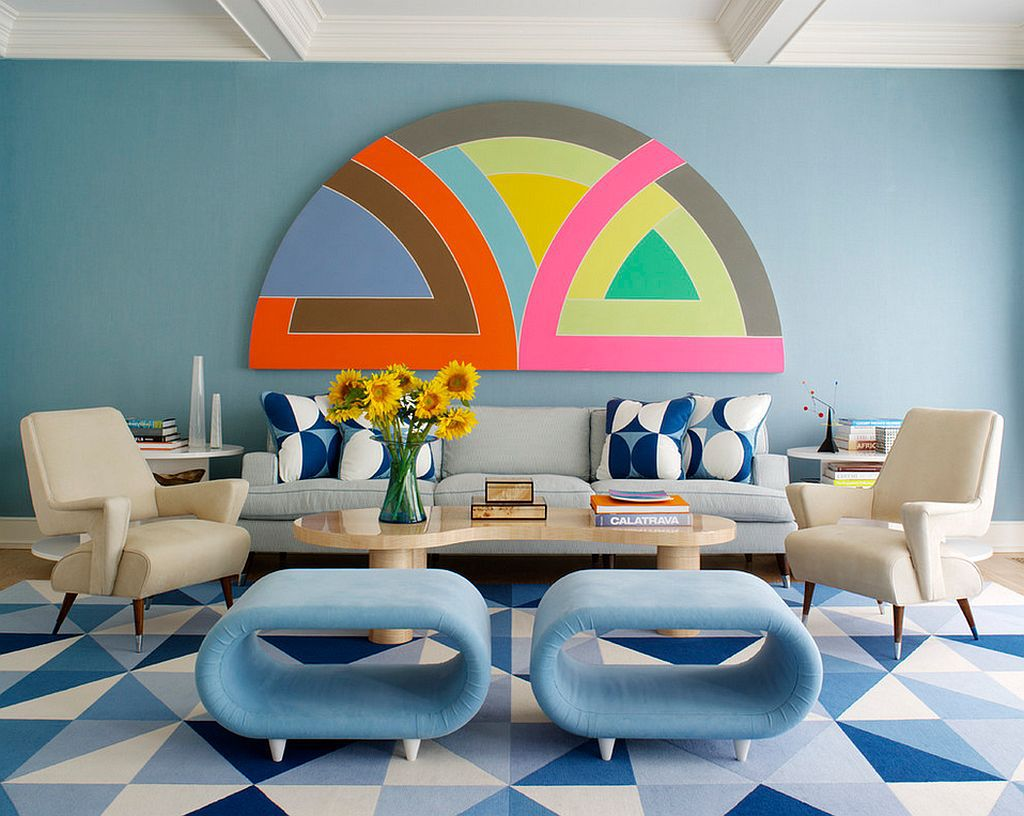biru: (205, 571, 487, 750), (528, 578, 810, 757)
coklat: (293, 507, 735, 568)
putih: (791, 410, 1010, 600), (14, 415, 249, 584)
